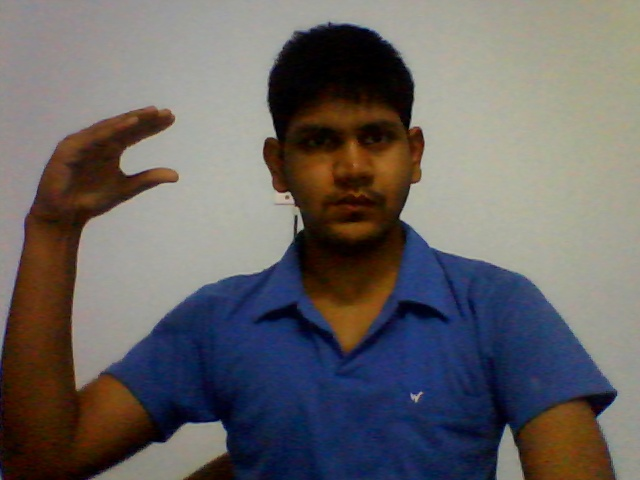No: (26, 102, 185, 240)
